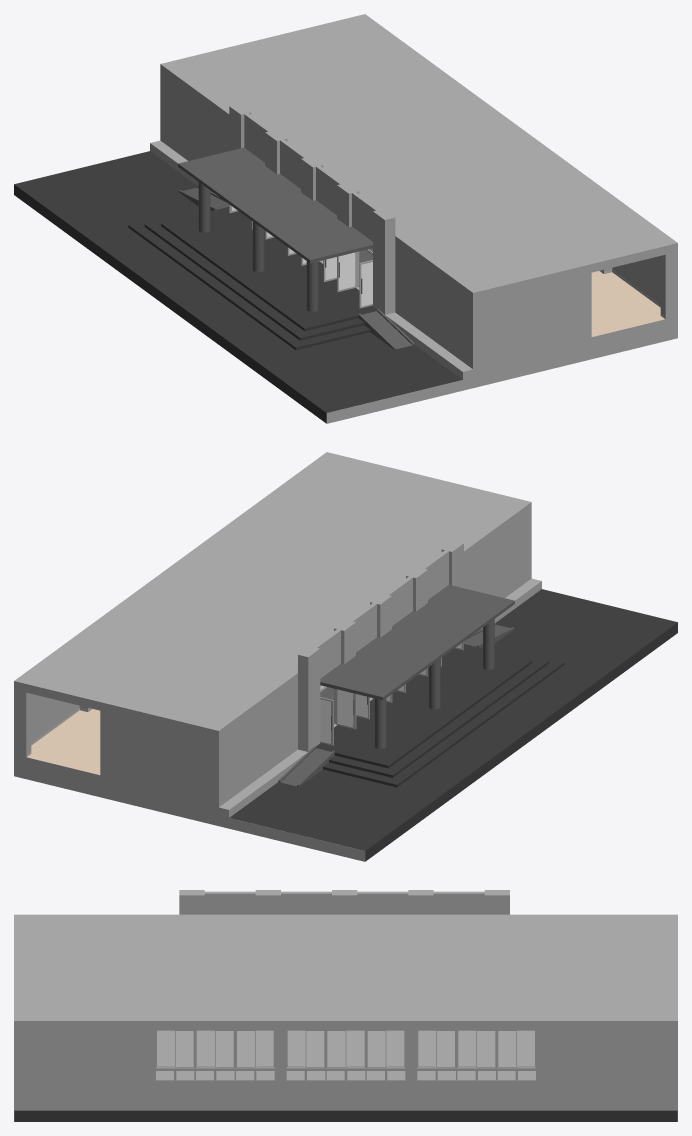
Rendered from anime-school-entrance.glb.
3 renders of one model, top to bottom at view 1: azimuth 30°, elevation 25°; view 2: azimuth 150°, elevation 25°; view 3: azimuth 270°, elevation 25°, orthographic. The views are drawn at different scales.
Parts seen in each view (by area): view 1: Object_6, Object_925; view 2: Object_6, Object_925; view 3: Object_6, Object_925.
Part boxes in pixels (bbox=[...]): Object_6: bbox=[14, 14, 677, 423]; Object_925: bbox=[229, 204, 372, 308]; Object_6: bbox=[14, 452, 677, 861]; Object_925: bbox=[320, 641, 463, 745]; Object_6: bbox=[14, 890, 677, 1121]; Object_925: bbox=[155, 1030, 536, 1081].
Bounding box in the file's own units: 17.06 × 5.27 × 26.32.
3 materials, 3 textured.
